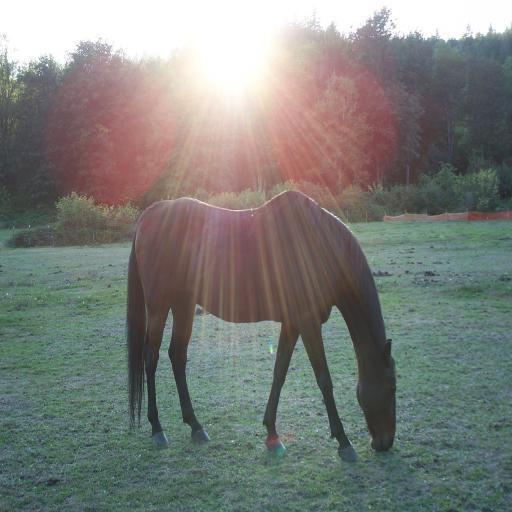horse: (124, 189, 398, 462)
